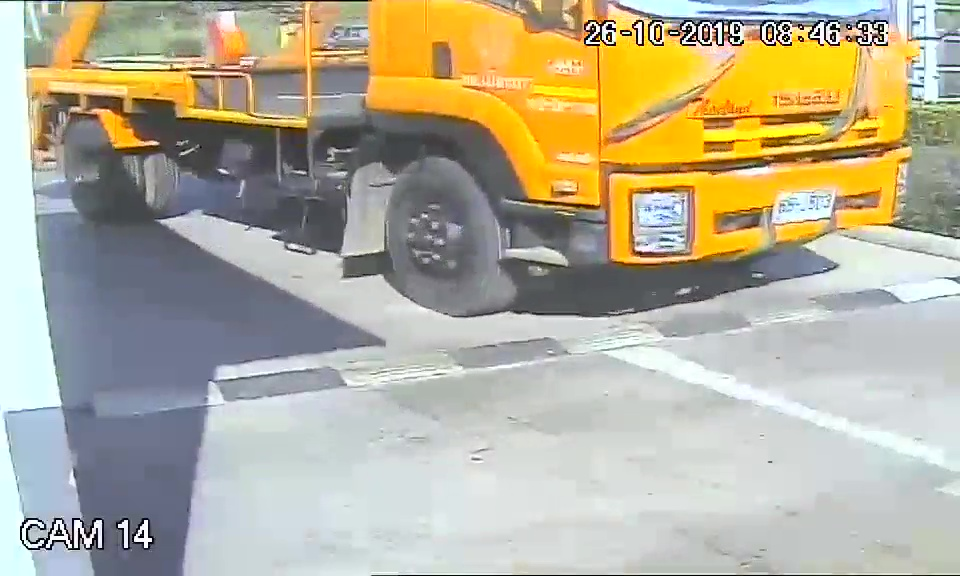truck: (367, 1, 918, 330)
